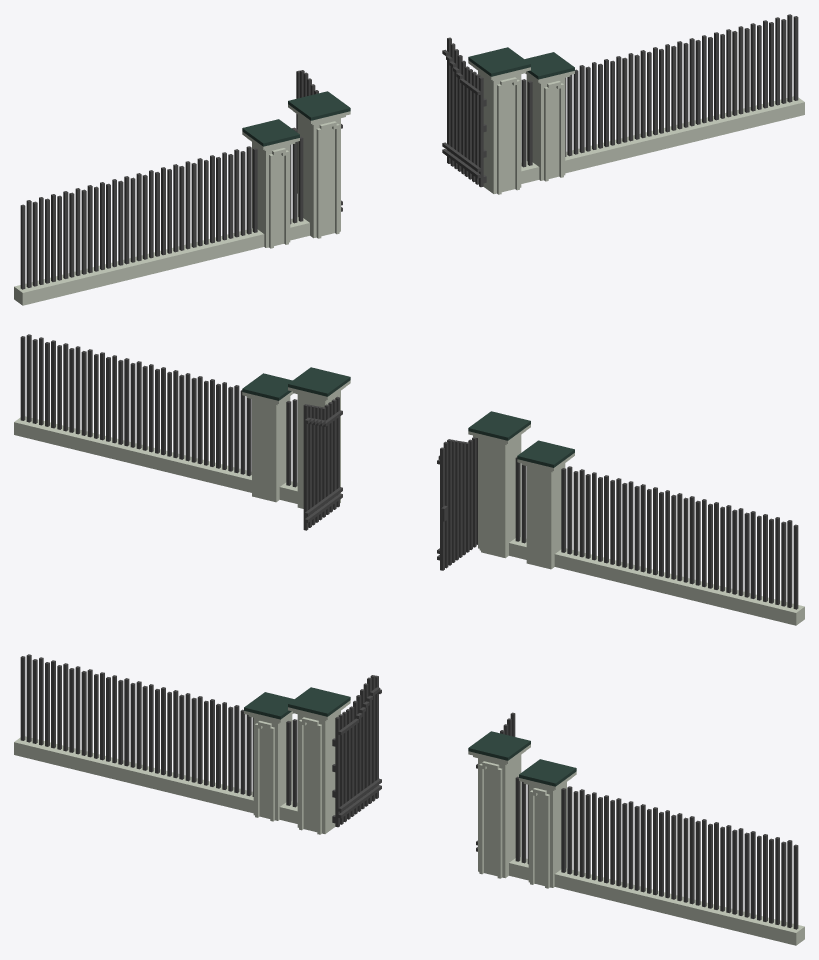
Rendered from gate_front.obj.
3 renders of one model, top to bottom at view 1: azimuth 30°, elevation 25°; view 2: azimuth 150°, elevation 25°; view 3: azimuth 330°, elevation 25°, orthographic.
Bounding box in the file's own units: 25.6 × 4 × 3.
Materials: 1 (1 with a texture image).
